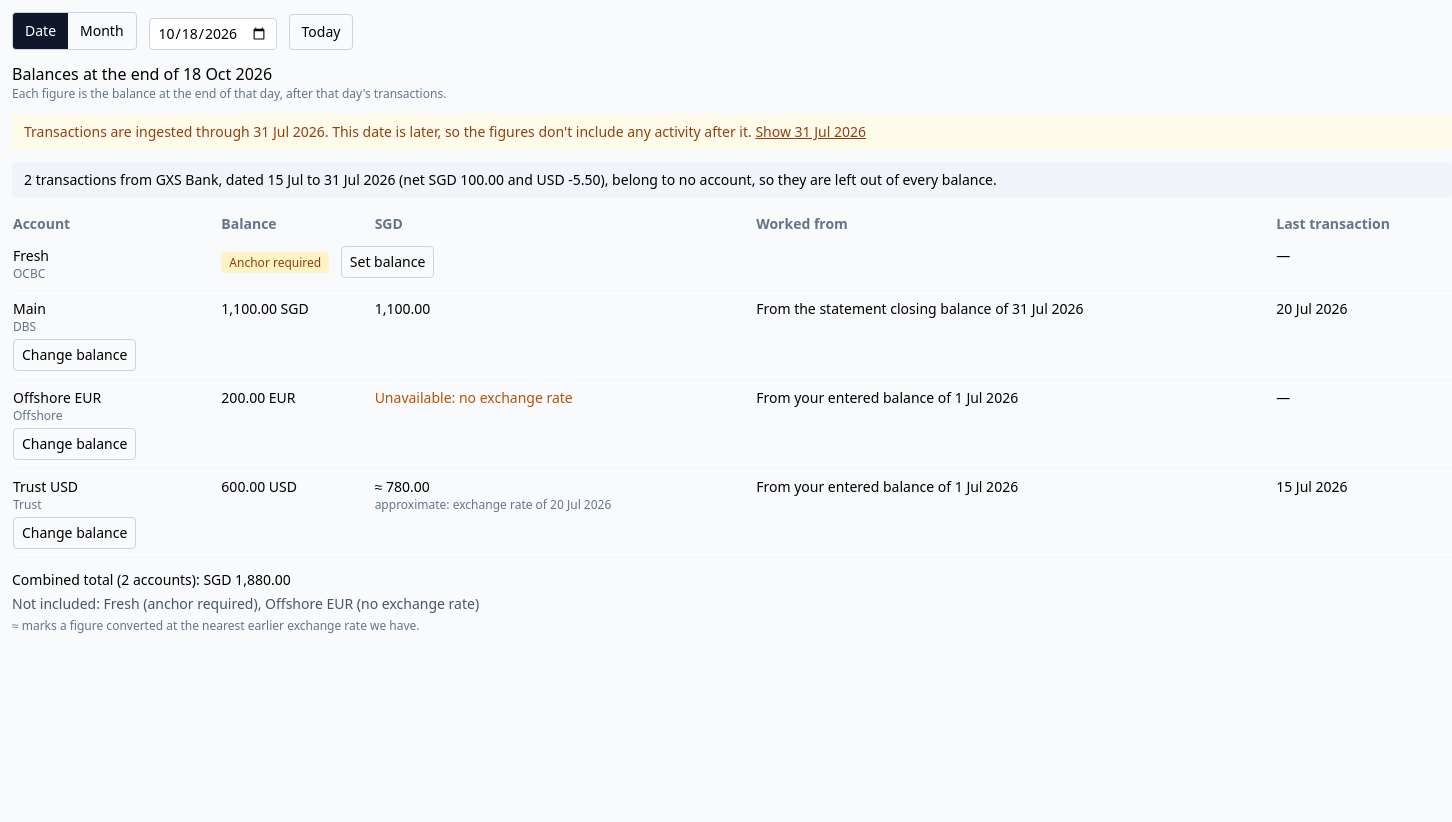
Test: BalanceLookup › by month › words the heading for the current month so far, from the response
Step 1. Click the button with test id "lookup-mode-month" → (102, 31), box [68,13,136,49]
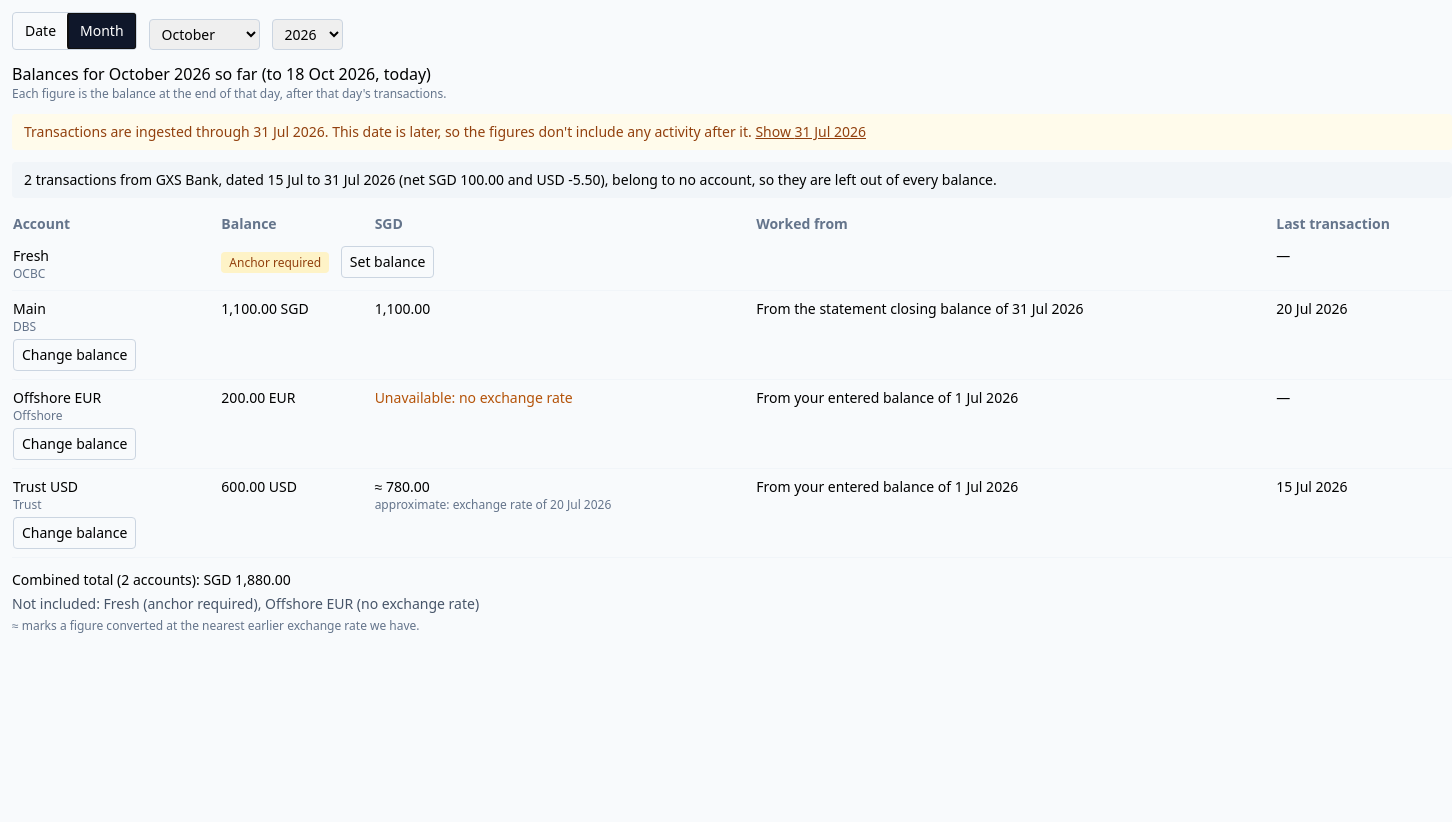
Expected: the heading with test id "lookup-heading" reads "Balances for October 2026 so far (to 18 Oct 2026, today)", [12,63,431,85]
